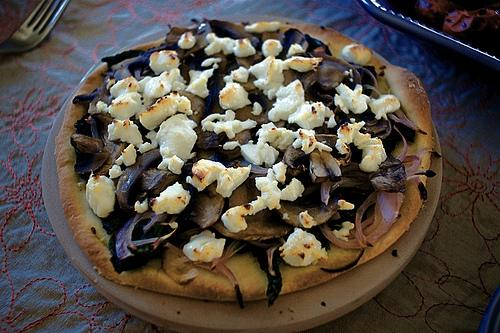onion: (115, 149, 162, 213), (115, 211, 167, 260), (194, 238, 248, 270), (216, 262, 245, 309), (162, 249, 198, 285), (134, 166, 169, 202), (320, 222, 364, 250), (355, 191, 377, 246), (387, 108, 427, 134), (316, 61, 349, 90), (74, 148, 109, 174), (133, 228, 176, 246), (405, 148, 433, 174), (350, 65, 378, 89), (234, 106, 269, 124), (126, 212, 141, 251), (240, 160, 269, 178), (394, 125, 408, 162), (321, 178, 338, 206), (362, 116, 388, 134), (229, 128, 252, 146), (197, 147, 216, 162), (362, 84, 381, 96), (127, 56, 148, 64), (306, 51, 330, 57), (402, 155, 420, 163)
